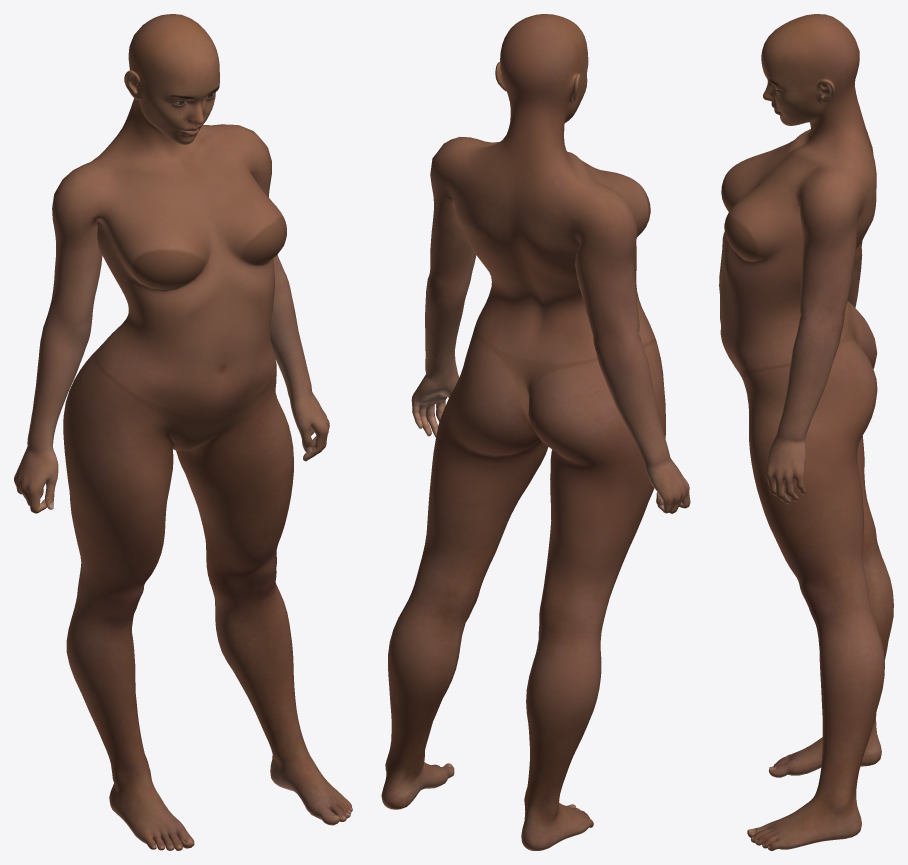
3 renders of one model, left to right at view 1: azimuth 30°, elevation 25°; view 2: azimuth 150°, elevation 25°; view 3: azimuth 270°, elevation 25°, orthographic. The views are drawn at different scales.
Parts seen in each view (by area): view 1: mesh_character_xl.001; view 2: mesh_character_xl.001; view 3: mesh_character_xl.001.
Boxes of the visible parts, left/top/right/bottom form: mesh_character_xl.001: left=14, top=14, right=352, bottom=850; mesh_character_xl.001: left=381, top=14, right=690, bottom=850; mesh_character_xl.001: left=719, top=14, right=893, bottom=850.
Bounding box in the file's own units: 0.689 × 1.77 × 0.366.
Materials: 1 (1 with a texture image).
